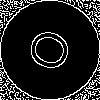O: (25, 25, 83, 79)
